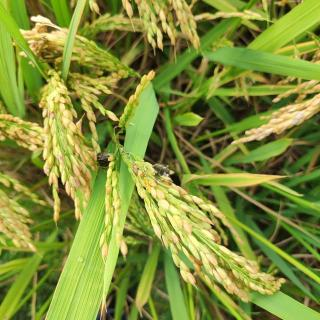Gosong-Palsu: (150, 161, 172, 179), (95, 150, 115, 168)
